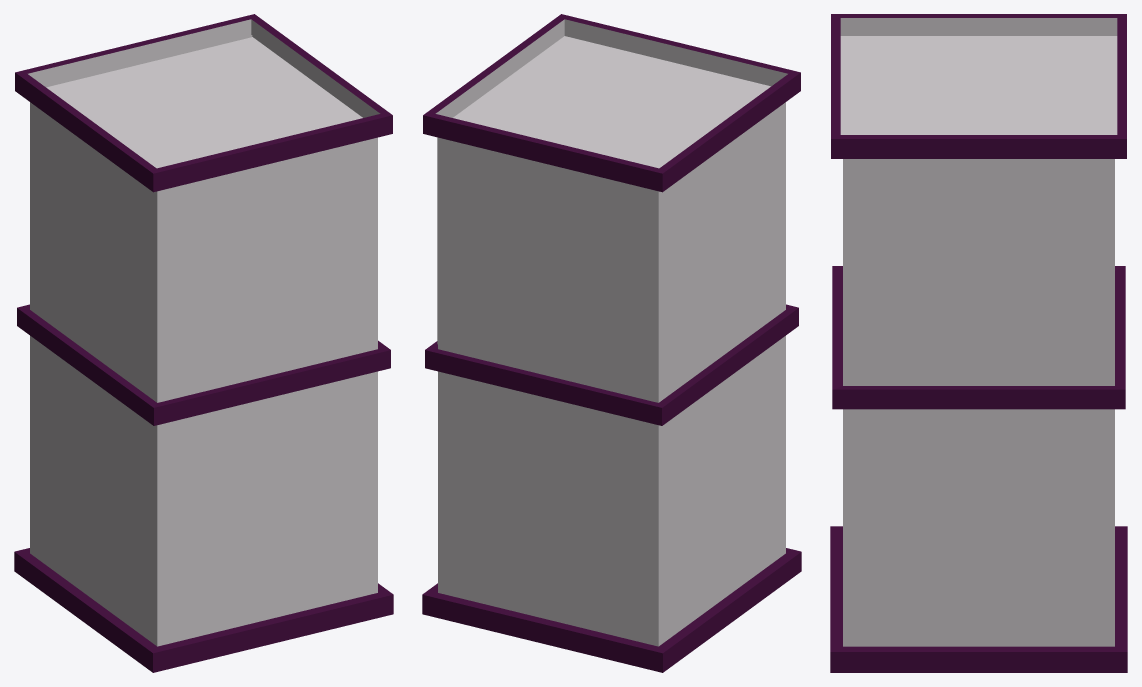
File: building.fbx
The picture shows the model from 3 angles, left to right: view 1: azimuth 30°, elevation 25°; view 2: azimuth 150°, elevation 25°; view 3: azimuth 270°, elevation 25°; orthographic projection. The views are drawn at different scales.
Parts seen in each view (by area): view 1: Cube; view 2: Cube; view 3: Cube.
Part boxes in pixels (x1,y1,x2,y2): Cube: (14, 14, 393, 672); Cube: (422, 14, 801, 672); Cube: (830, 14, 1127, 672).
Size of the model in its own units: 421 by 833 by 421.
